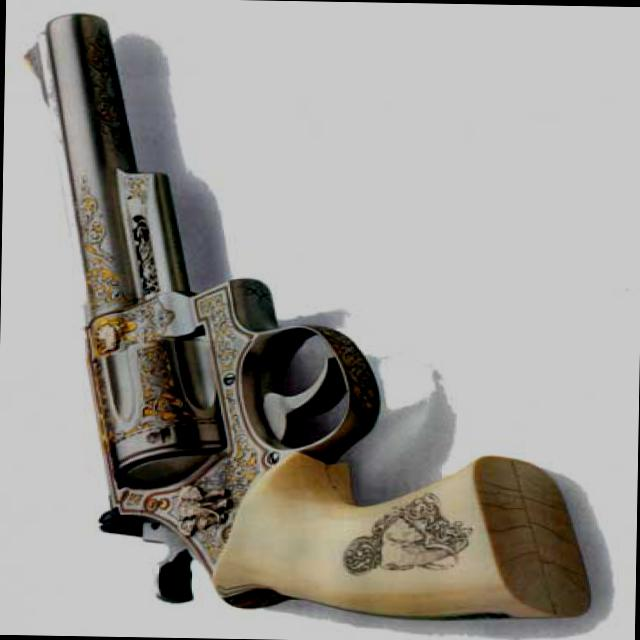handgun: (9, 11, 596, 627)
